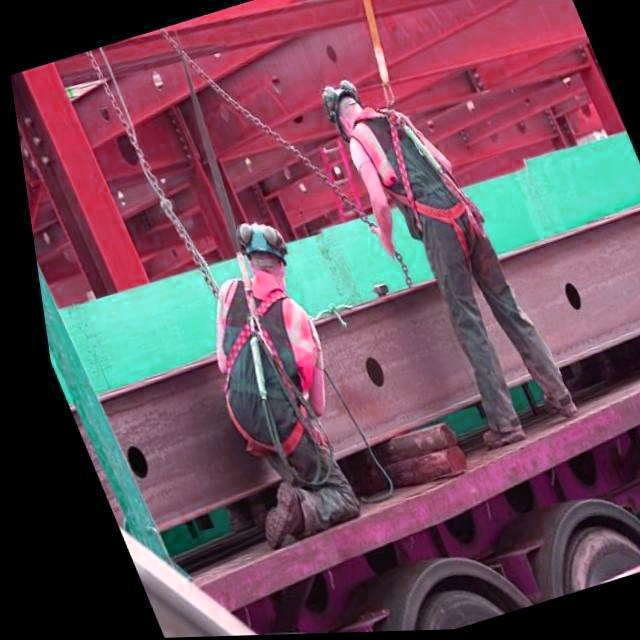safety belt: (329, 93, 490, 272), (202, 289, 322, 467)
